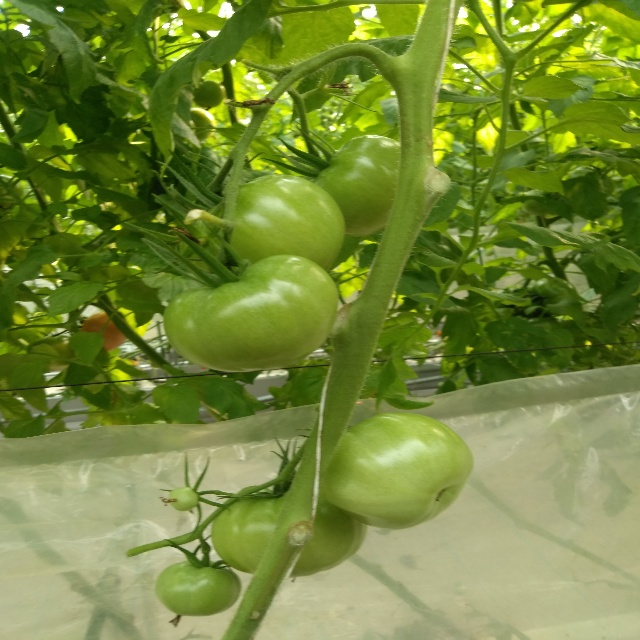b_green: (164, 256, 338, 373), (323, 412, 476, 530), (180, 175, 346, 272), (210, 492, 366, 577), (316, 135, 400, 236), (154, 559, 241, 616), (169, 487, 198, 510)
